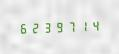four: (89, 18, 100, 32)
nine: (53, 20, 64, 33)
one: (77, 19, 88, 32)
seven: (65, 19, 76, 33)
six: (17, 21, 28, 35)
three: (41, 20, 52, 34)
two: (29, 21, 40, 34)
